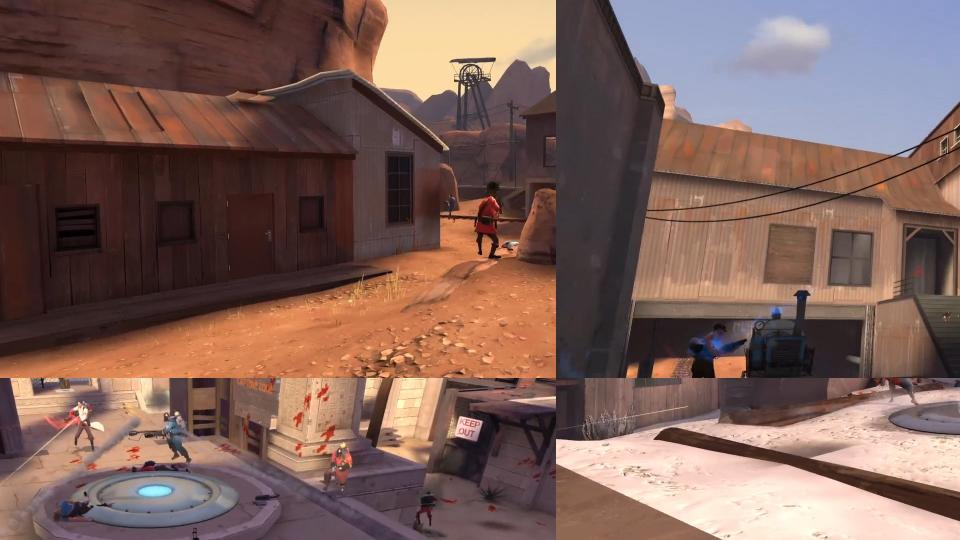Enemy: (130, 413, 198, 470), (687, 320, 747, 378), (470, 181, 508, 262), (64, 400, 105, 454), (53, 493, 110, 522), (322, 438, 351, 494), (877, 378, 924, 404), (444, 191, 460, 228), (421, 490, 436, 527)
